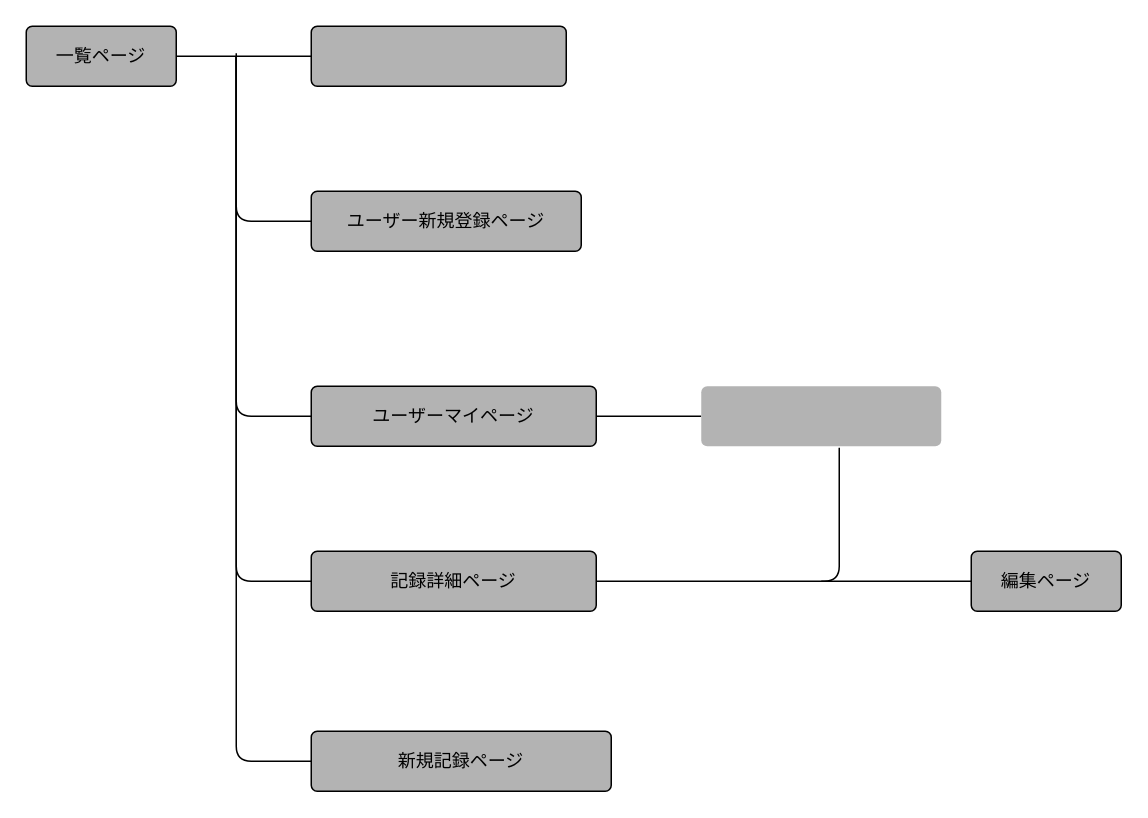
This 1148x818 diagram has some shape labels left out. Each missing label, with the centre of its shape:
"ユーザーログインページ" belongs at point 438,55.
"頻度カレンダーページ" belongs at point 820,416.
